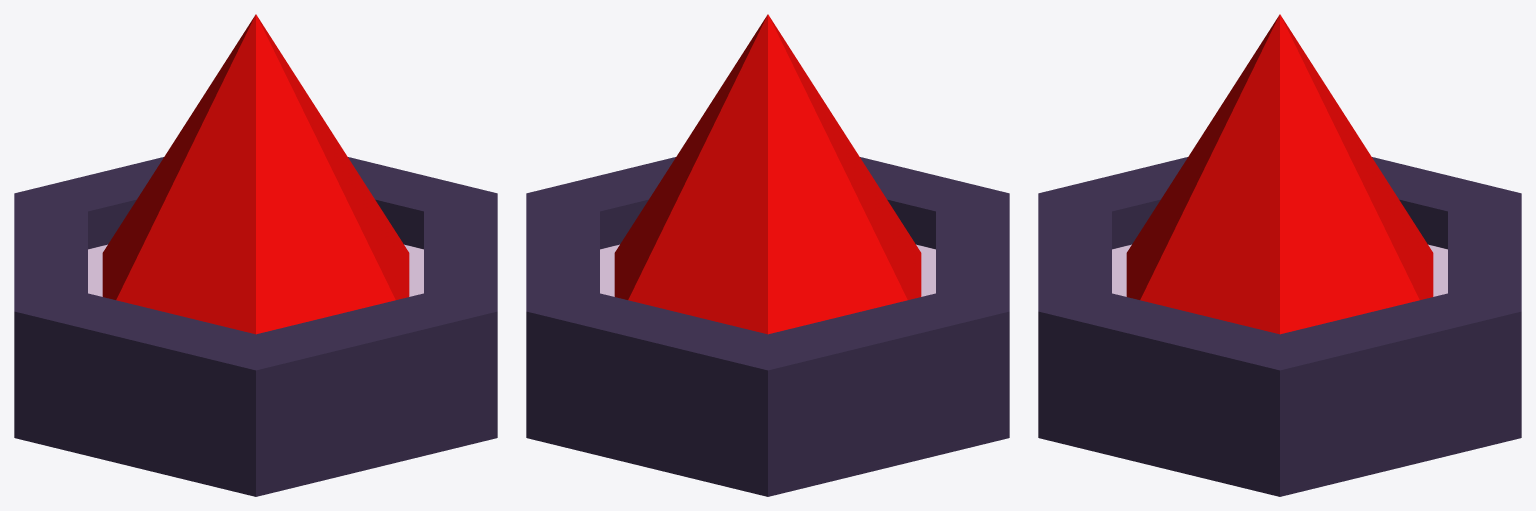
The model's file is hex_trap.glb.
3 renders of one model, left to right at view 1: azimuth 30°, elevation 25°; view 2: azimuth 150°, elevation 25°; view 3: azimuth 270°, elevation 25°, orthographic.
Parts seen in each view (by area): view 1: tile, spike, insidehole; view 2: tile, spike, insidehole; view 3: tile, spike, insidehole.
Part boxes in pixels (<box>): tile: <box>14,157,497,496</box>; spike: <box>102,14,409,334</box>; insidehole: <box>88,244,423,296</box>; tile: <box>526,157,1009,496</box>; spike: <box>614,14,921,334</box>; insidehole: <box>600,244,935,296</box>; tile: <box>1038,157,1521,496</box>; spike: <box>1126,14,1433,334</box>; insidehole: <box>1112,244,1447,296</box>.
Bounding box in the file's own units: 2 × 1.44 × 1.73.
